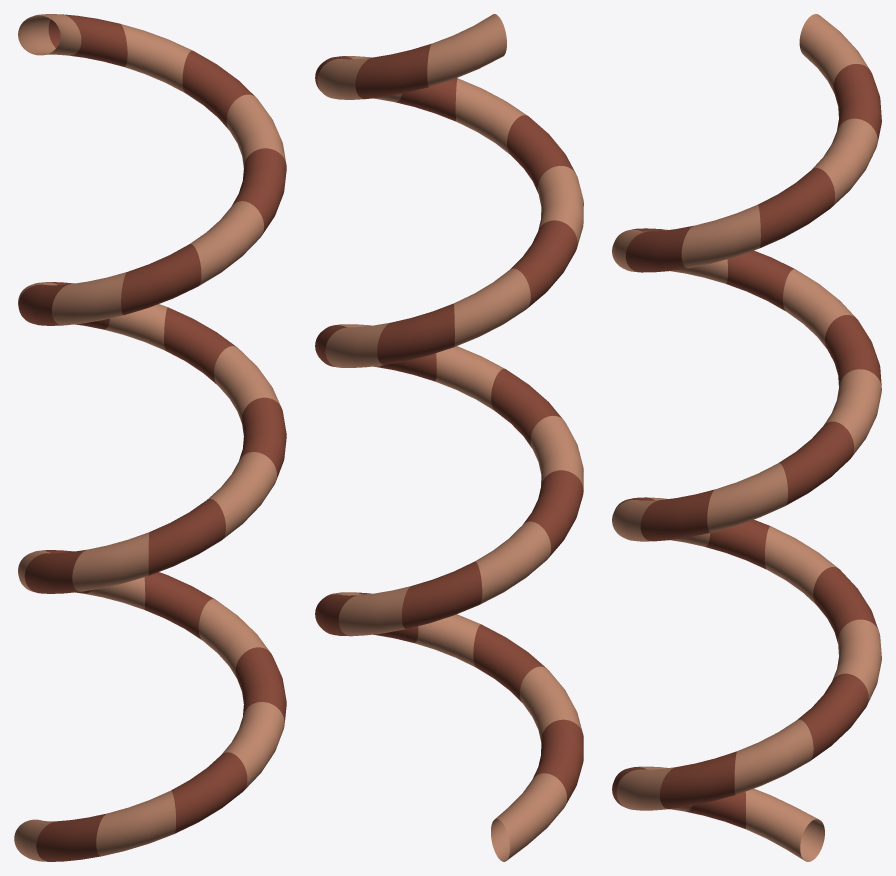
File: spiralA.fbx
3 renders of one model, left to right at view 1: azimuth 30°, elevation 25°; view 2: azimuth 150°, elevation 25°; view 3: azimuth 270°, elevation 25°, orthographic.
Visible parts, largest first — view 1: spiral_light.002; view 2: spiral_light.002; view 3: spiral_light.002.
Part boxes in pixels (left/top/right/bottom): spiral_light.002: left=14, top=14, right=286, bottom=861; spiral_light.002: left=315, top=14, right=583, bottom=861; spiral_light.002: left=612, top=14, right=881, bottom=861.
Size of the model in its own units: 1215 by 4209 by 1216.
